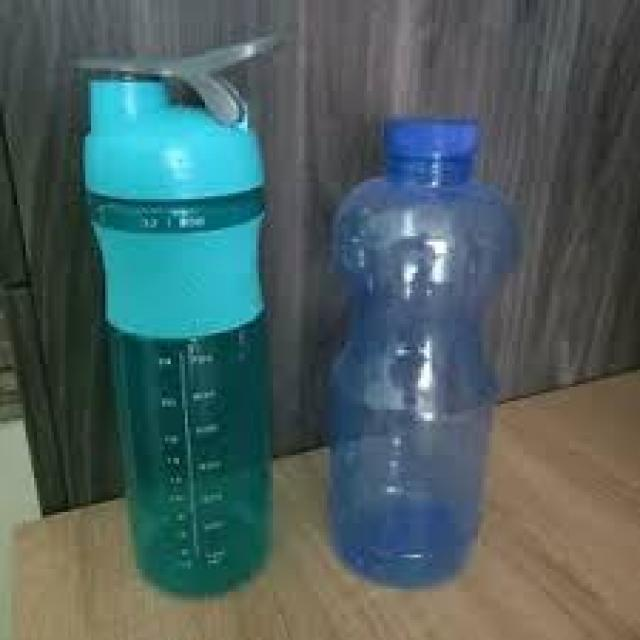Plastic: (79, 19, 290, 597), (330, 112, 524, 588)
